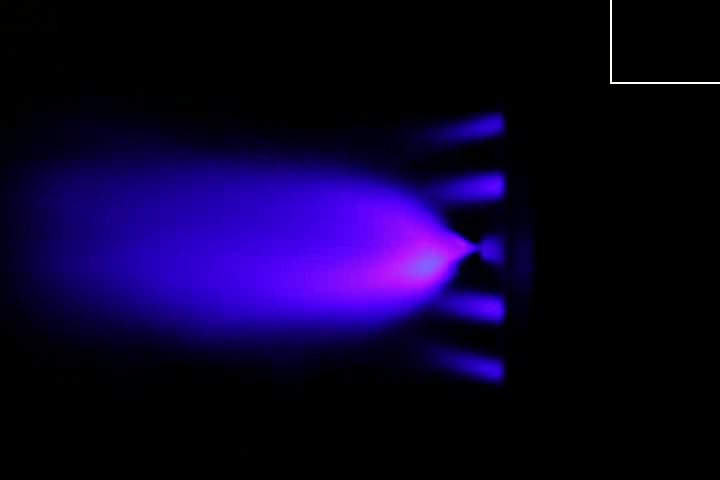burner cap: (481, 233, 509, 269)
pilot flame: (429, 340, 527, 391), (430, 97, 509, 155), (435, 289, 522, 333), (424, 172, 514, 208)
stable: (284, 198, 478, 298)
